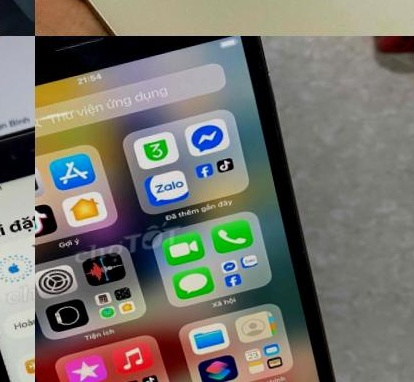physical_damage: (35, 36, 274, 113)
scratch: (0, 102, 35, 150)
